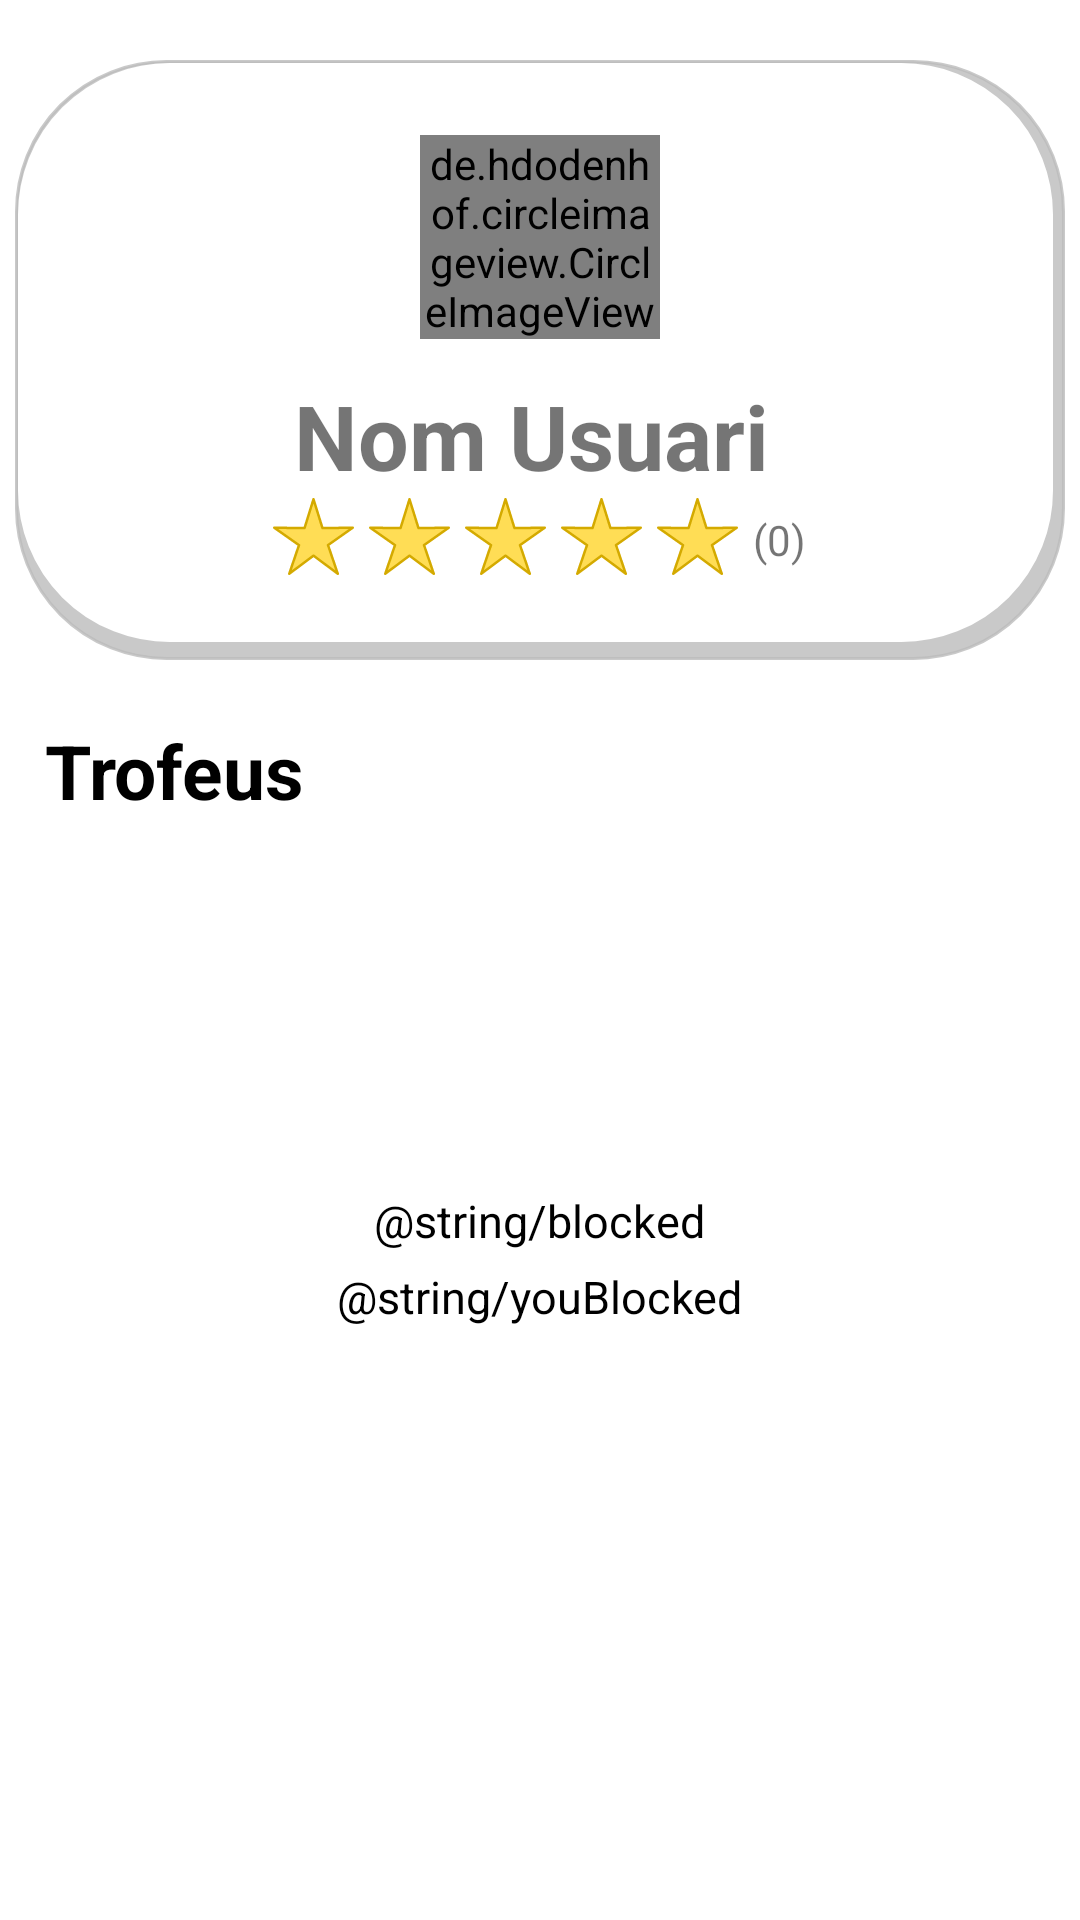

Icon bounding boxes for this 1080*1920 phone screenshot, format detection(x1, y1, x2, y2):
starplena: detection(273, 498, 354, 575), detection(369, 498, 450, 575), detection(465, 498, 546, 575), detection(561, 498, 642, 575), detection(657, 498, 738, 575)
